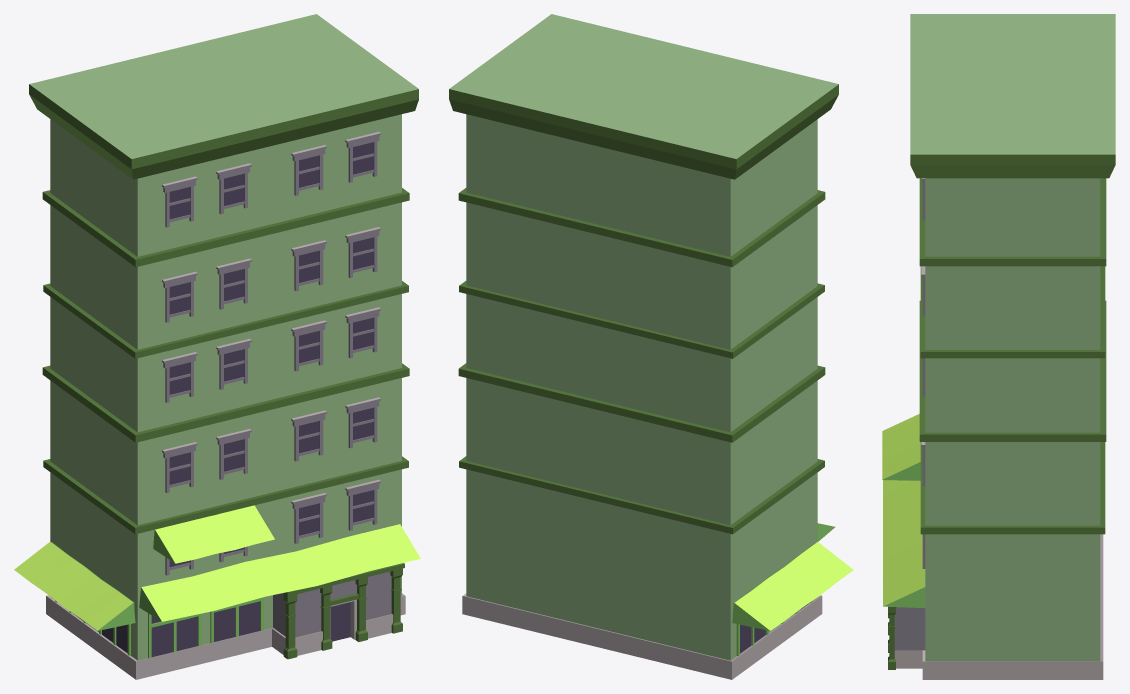
The model's file is rectangle building - green.fbx.
The picture shows the model from 3 angles, left to right: view 1: azimuth 30°, elevation 25°; view 2: azimuth 150°, elevation 25°; view 3: azimuth 270°, elevation 25°; orthographic projection.
Parts seen in each view (by area): view 1: pCube9 (×3), pCube17, pCube21, pCube18, pCube26, pCube25, pCube6, pCube7, pCube2, pCube8, pCube5; view 2: pCube9 (×3), pCube21; view 3: pCube9 (×3), pCube17, pCube18, pCube7.
Part boxes in pixels (box(x1,y1,x2,y2)): pCube9 (×3): box(29, 14, 418, 679); pCube17: box(139, 524, 420, 621); pCube21: box(14, 541, 135, 630); pCube18: box(153, 505, 274, 563); pCube26: box(151, 615, 197, 657); pCube25: box(214, 601, 260, 641); pCube6: box(283, 594, 297, 659); pCube7: box(390, 568, 402, 633); pCube2: box(320, 586, 332, 650); pCube8: box(355, 577, 367, 641); pCube5: box(283, 563, 404, 596); pCube9 (×3): box(449, 14, 838, 679); pCube21: box(732, 542, 853, 630); pCube9 (×3): box(894, 14, 1115, 679); pCube17: box(883, 480, 925, 608); pCube18: box(882, 414, 920, 480); pCube7: box(888, 606, 895, 669).
Size of the model in its own units: 16.82 by 27.19 by 10.88.
